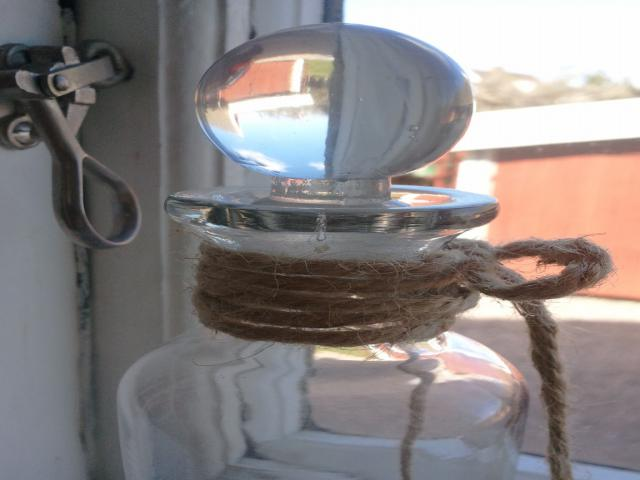Door-handle: (1, 41, 146, 249)
